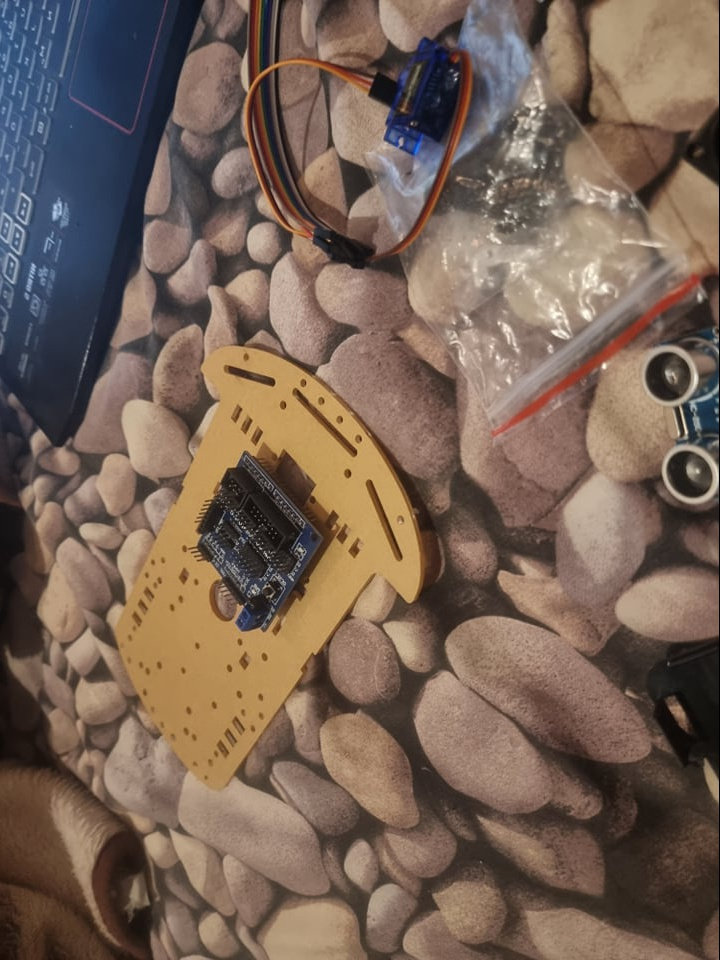5V EXPANSION: (190, 451, 328, 631)
SENSOR: (644, 321, 720, 510)
